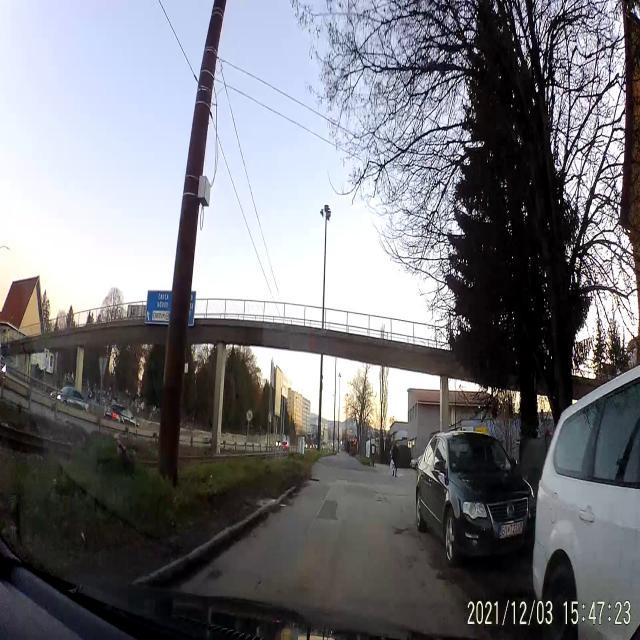Pothole: (390, 519, 410, 539), (308, 474, 322, 484), (254, 578, 264, 588), (374, 497, 382, 502)
